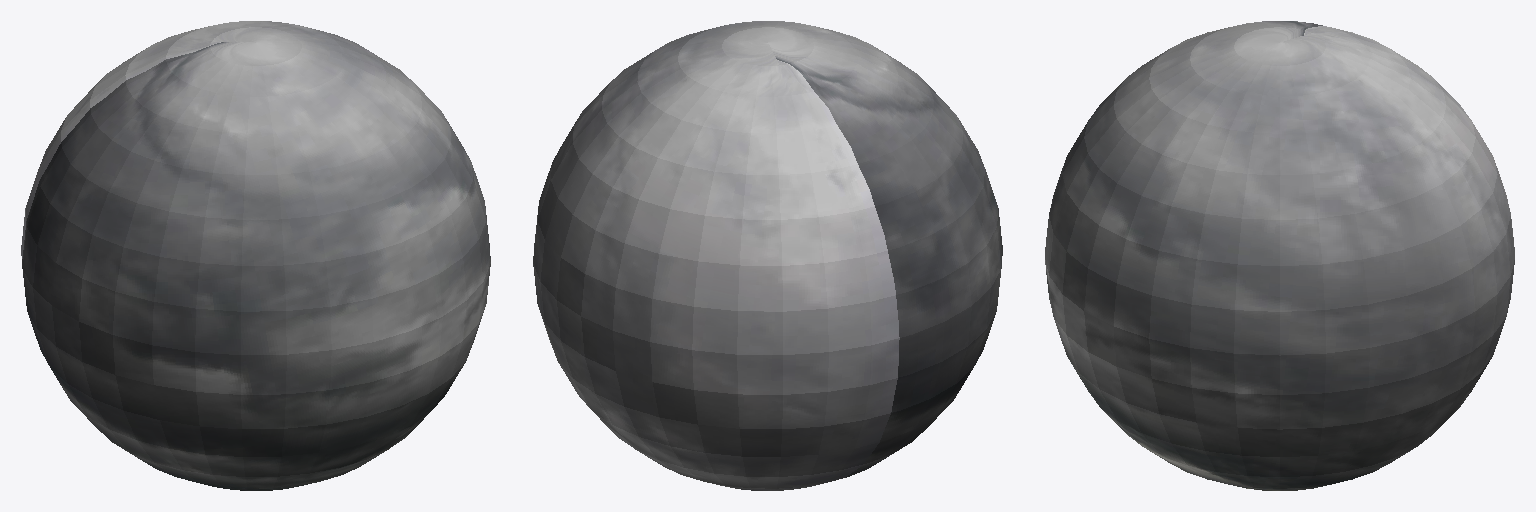
3 renders of one model, left to right at view 1: azimuth 30°, elevation 25°; view 2: azimuth 150°, elevation 25°; view 3: azimuth 270°, elevation 25°, orthographic.
Parts seen in each view (by area): view 1: Sphere; view 2: Sphere; view 3: Sphere.
Boxes of the visible parts, x1=… form: Sphere: x1=21, y1=21, x2=490, y2=490; Sphere: x1=533, y1=21, x2=1002, y2=490; Sphere: x1=1045, y1=21, x2=1514, y2=490.
Size of the model in its own units: 40 by 40 by 40.
Materials: 1 (1 with a texture image).